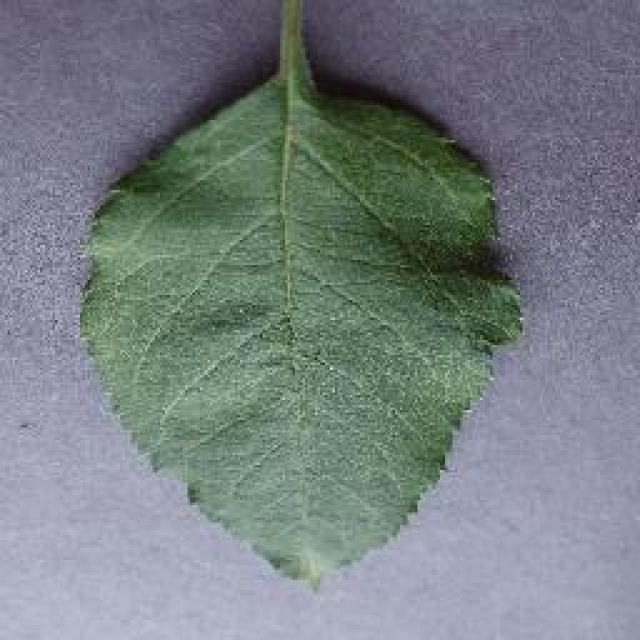apple healthy: (75, 0, 525, 592)
